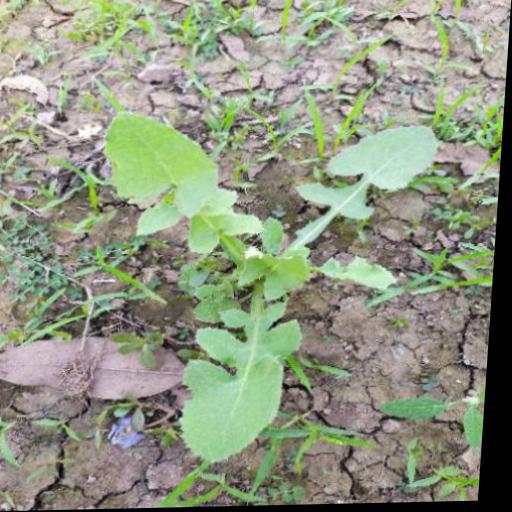weed: (59, 112, 453, 478)
